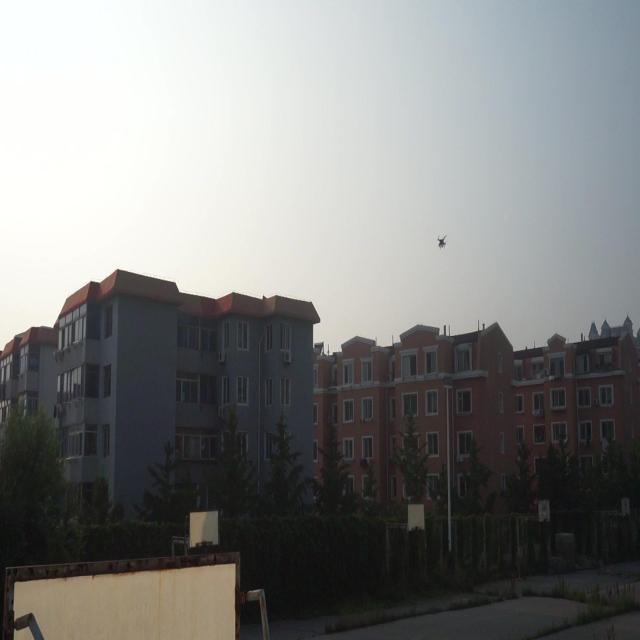drone: (435, 232, 447, 252)
